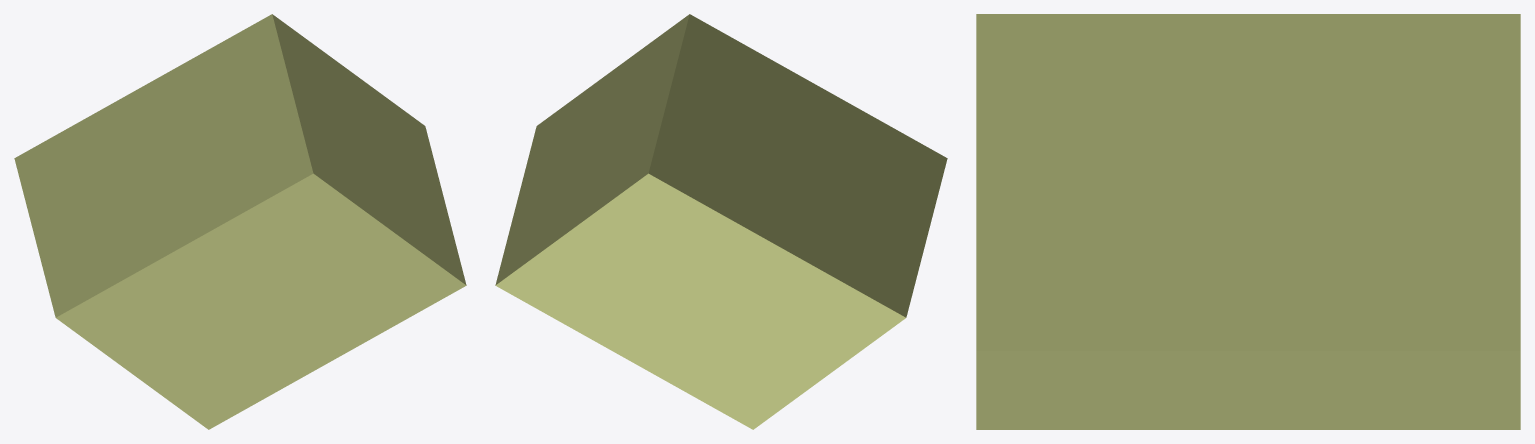
3 renders of one model, left to right at view 1: azimuth 30°, elevation 25°; view 2: azimuth 150°, elevation 25°; view 3: azimuth 270°, elevation 25°, orthographic. The views are drawn at different scales.
Visible parts, largest first — view 1: 0_1_0_0_0_1_2_1_1_0_3; view 2: 0_1_0_0_0_1_2_1_1_0_3; view 3: 0_1_0_0_0_1_2_1_1_0_3.
Part boxes in pixels (x1=…): 0_1_0_0_0_1_2_1_1_0_3: x1=14, y1=14, x2=466, y2=429; 0_1_0_0_0_1_2_1_1_0_3: x1=495, y1=14, x2=947, y2=429; 0_1_0_0_0_1_2_1_1_0_3: x1=976, y1=14, x2=1520, y2=429.
Size of the model in its own units: 10.15 by 8.14 by 9.
